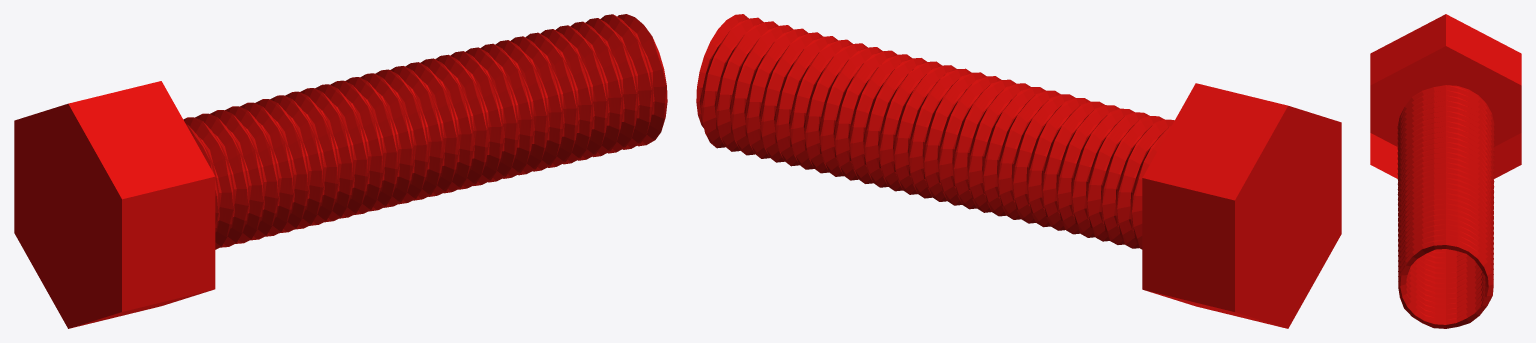
File: hex_bolt_24mm.obj
3 views of the same model, side by side, from view 1: azimuth 30°, elevation 25°; view 2: azimuth 150°, elevation 25°; view 3: azimuth 270°, elevation 25° (orthographic). The views are drawn at different scales.
Size of the model in its own units: 0.1137 by 0.0432 by 0.0374.
